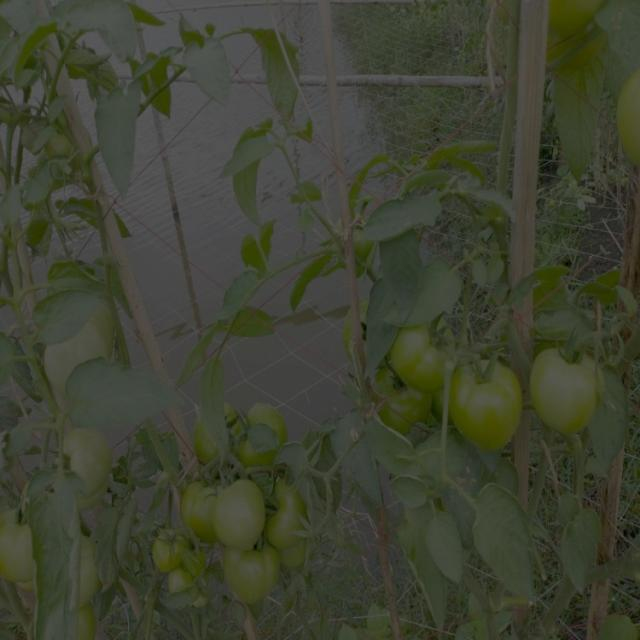tomato: (445, 353, 516, 455), (528, 343, 598, 432), (390, 319, 462, 390), (368, 367, 444, 432), (208, 476, 268, 548), (213, 541, 280, 603), (262, 475, 310, 544), (1, 501, 37, 586), (69, 434, 112, 498), (613, 69, 640, 167), (550, 1, 597, 51), (182, 476, 220, 531), (153, 526, 189, 572), (189, 423, 222, 466), (240, 403, 287, 433), (80, 534, 97, 604), (78, 602, 94, 640), (53, 131, 72, 162)
